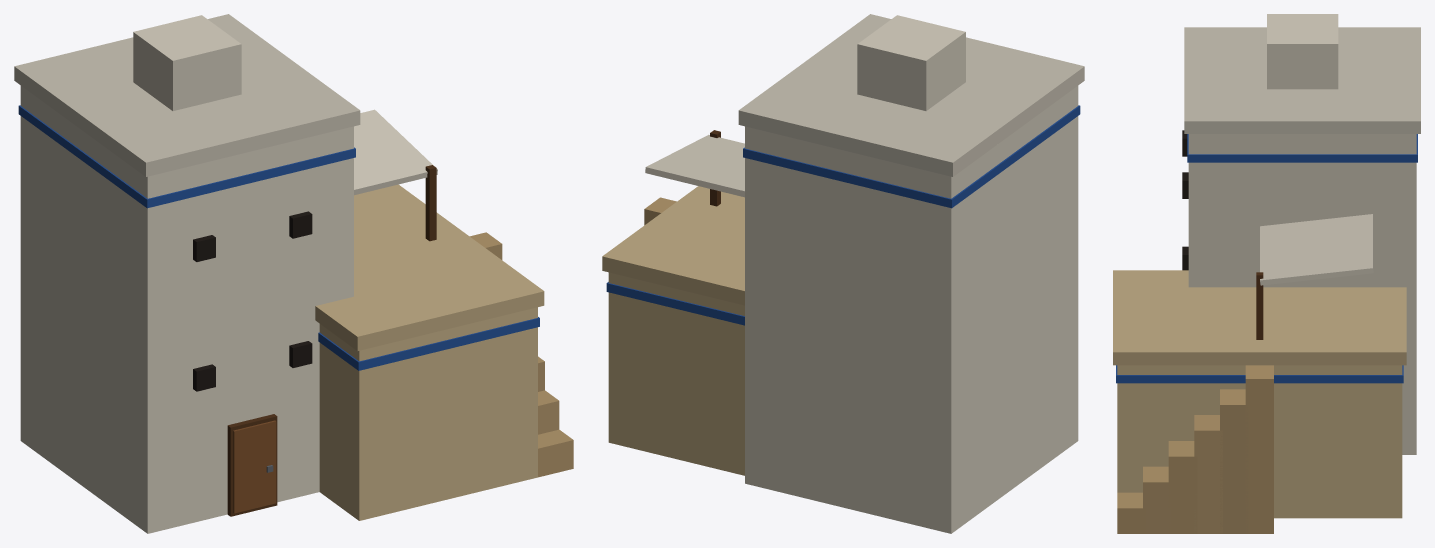
File: gnoll_house_b.glb
3 views of the same model, side by side, from view 1: azimuth 30°, elevation 25°; view 2: azimuth 150°, elevation 25°; view 3: azimuth 270°, elevation 25° (orthographic). The views are drawn at different scales.
Parts seen in each view (by area): view 1: gnoll_house_b; view 2: gnoll_house_b; view 3: gnoll_house_b.
Boxes of the visible parts, x1,y1,x2,y2 form: gnoll_house_b: [14, 14, 573, 533]; gnoll_house_b: [602, 14, 1084, 533]; gnoll_house_b: [1113, 14, 1420, 533].
Size of the model in its own units: 2.84 by 2.95 by 2.16.
